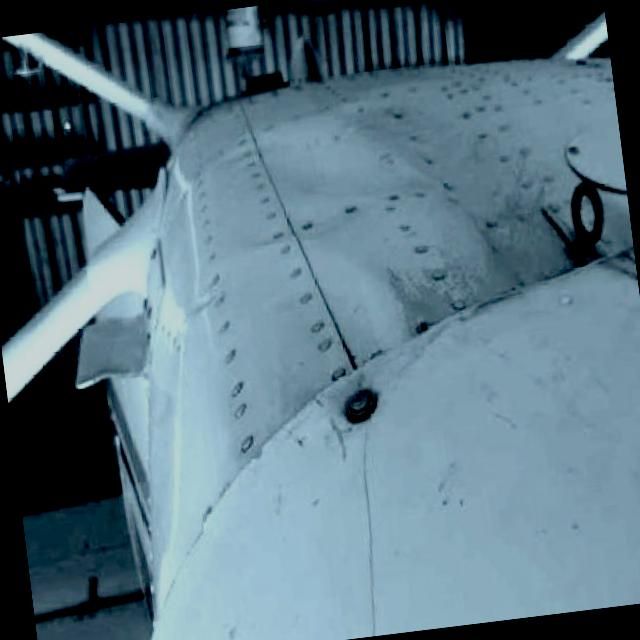dent: (245, 232, 415, 394)
